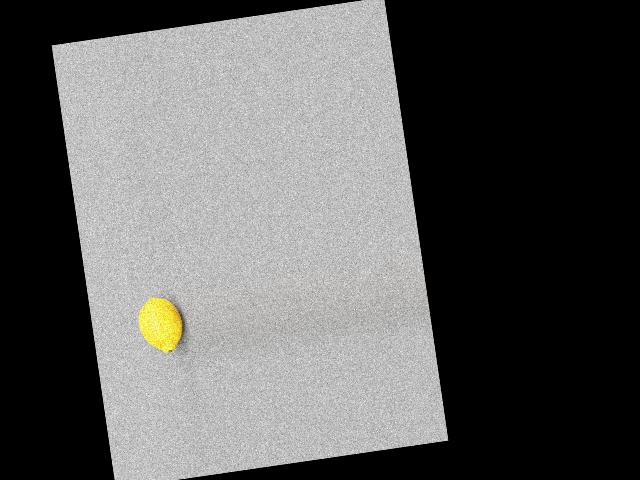lemon: (132, 292, 185, 356)
